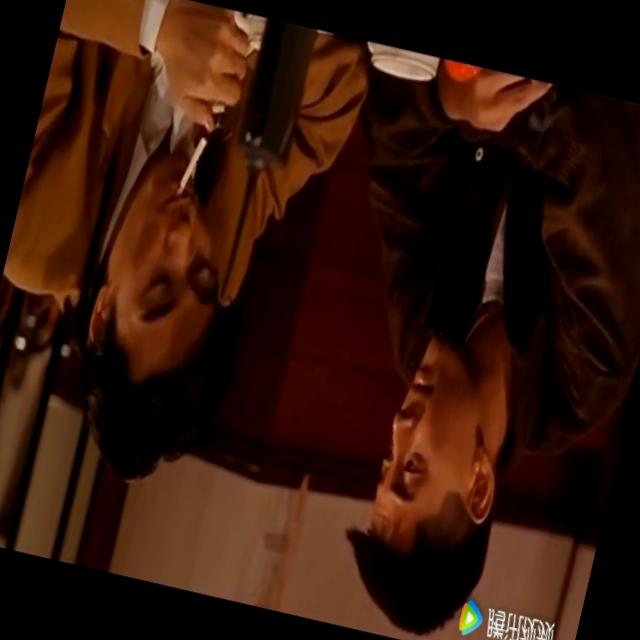cigarette: (174, 131, 209, 208)
